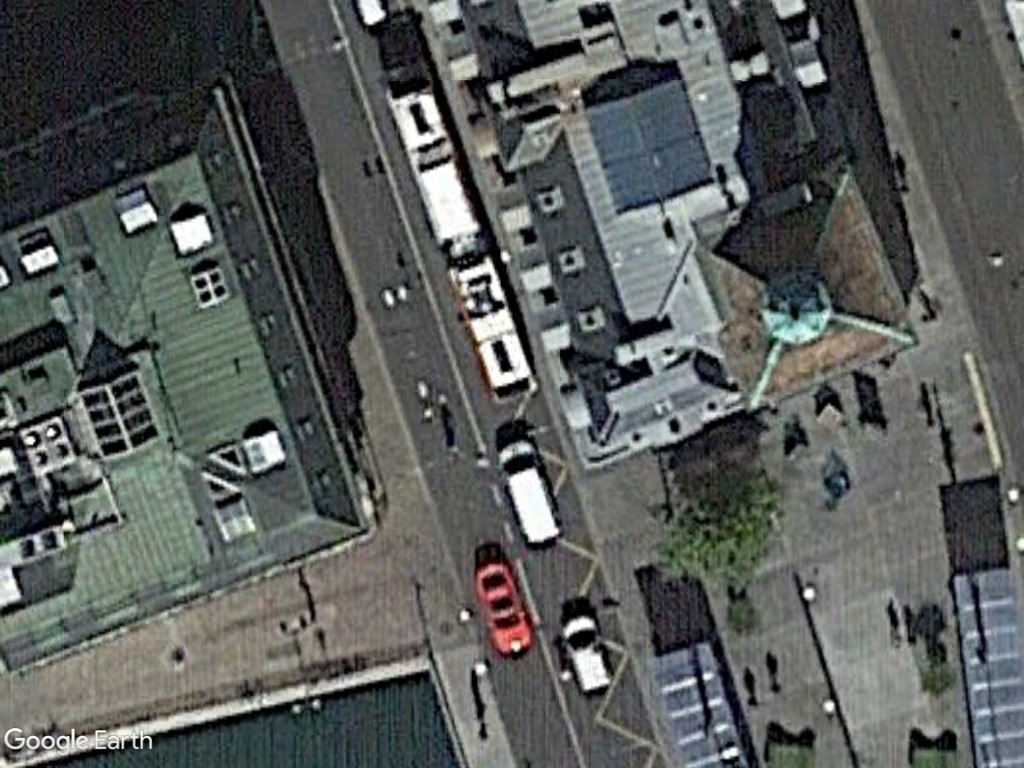bus: (383, 81, 482, 252), (450, 250, 535, 393)
van: (492, 435, 565, 551), (556, 610, 614, 698)
